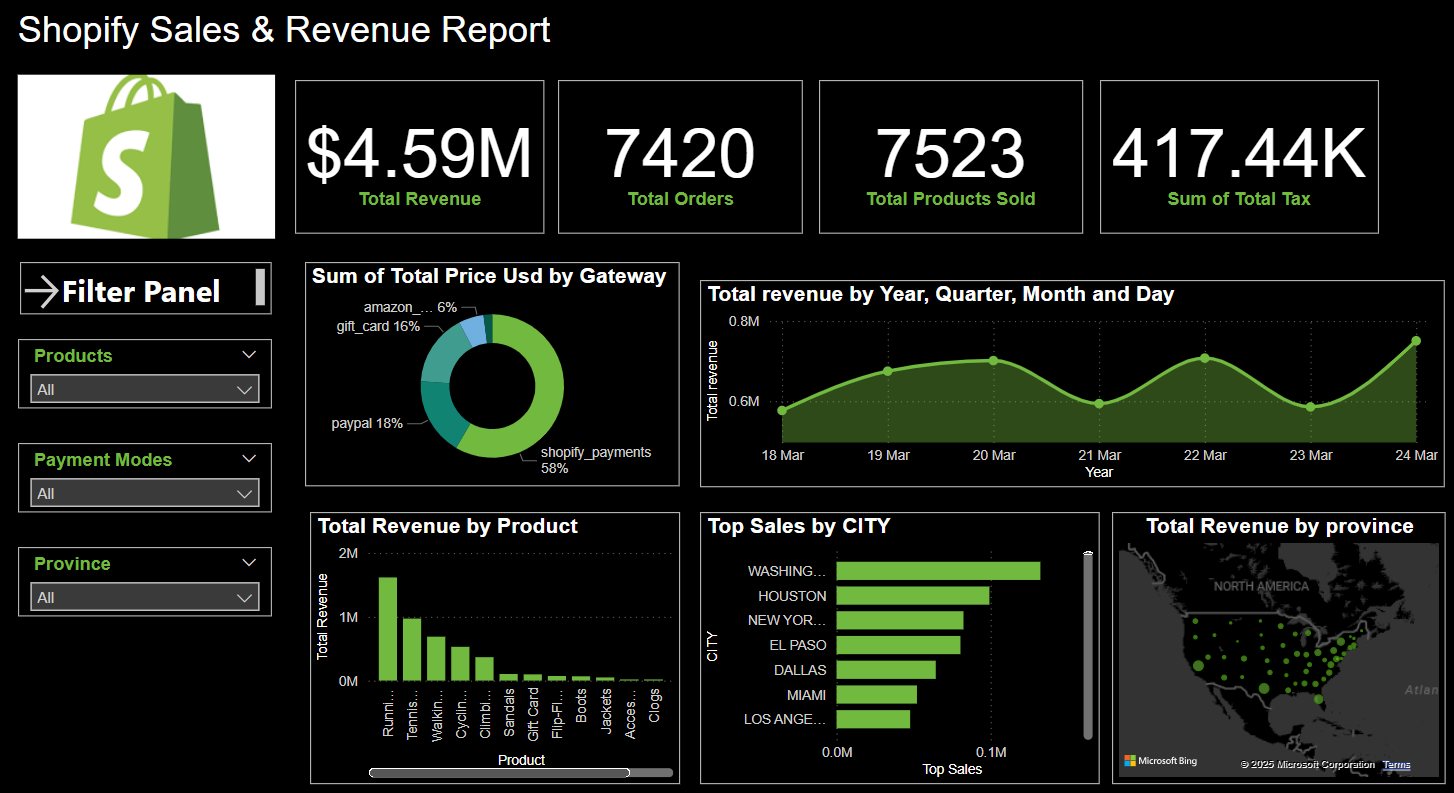

This screenshot's page, from the dashboard's own definition file:
{"tool":"powerbi","page":{"name":"Page 1","canvas":[1280,720],"ordinal":0},"visuals":[{"type":"card","fields":{"Values":["Sum(shopify_sales.Total Price Usd)"]},"box":[258.7,71.9,218.6,135.5],"z":0},{"type":"card","fields":{"Values":["CountNonNull(shopify_sales.Order Number)"]},"box":[489.6,71.9,214.5,135.5],"z":1000},{"type":"card","fields":{"Values":["Sum(shopify_sales.Quantity)"]},"box":[719.6,71.9,232,135.5],"z":2000},{"type":"card","fields":{"Values":["Sum(shopify_sales.Total Tax)"]},"box":[965.9,71.9,245.3,135.5],"z":3000},{"type":"clusteredBarChart","fields":{"Y":["Sum(shopify_sales.Total Price Usd)"],"Category":["shopify_sales.CITY"]},"box":[614.9,451.6,351.1,239.2],"z":4000},{"type":"stackedAreaChart","fields":{"Category":["shopify_sales.Invoice Date.Variation.Date Hierarchy.Year","shopify_sales.Invoice Date.Variation.Date Hierarchy.Quarter","shopify_sales.Invoice Date.Variation.Date Hierarchy.Month","shopify_sales.Invoice Date.Variation.Date Hierarchy.Day"],"Y":["Sum(shopify_sales.Total Price Usd)"]},"box":[614.9,247.4,653.9,181.7],"z":5000},{"type":"columnChart","fields":{"Category":["shopify_sales.Product Type"],"Y":["Sum(shopify_sales.Total Price Usd)"]},"box":[272,451.6,325.4,239.2],"z":6000},{"type":"map","fields":{"Category":["shopify_sales.Billing Address Province"],"Size":["Sum(shopify_sales.Total Price Usd)"]},"box":[976.2,451.6,292.5,239.2],"z":7000},{"type":"slicer","fields":{"Values":["shopify_sales.Gateway"]},"box":[15.4,391.1,222.7,60.6],"z":8000},{"type":"slicer","fields":{"Values":["shopify_sales.Billing Address Province"]},"box":[15.4,482.4,222.7,60.6],"z":9000},{"type":"slicer","fields":{"Values":["shopify_sales.Product Type"]},"box":[15.4,299.7,222.7,60.6],"z":10000},{"type":"donutChart","fields":{"Y":["Sum(shopify_sales.Total Price Usd)"],"Category":["shopify_sales.Gateway"]},"box":[267.9,232,329.5,197.1],"z":11000},{"type":"image","box":[10.3,62.6,236.1,154],"z":12000},{"type":"textbox","box":[10.3,4.1,495.8,50.3],"z":13000},{"type":"textbox","box":[17.4,232,220.7,46.2],"z":14000},{"type":"actionButton","box":[15.4,238.1,99.6,40],"z":15000}]}

Visuals, with their boxes in screenshot pixels (x1, y1, x2, y2):
card - Sum(shopify_sales.Total Price Usd): (295,81,540,233)
card - CountNonNull(shopify_sales.Order Number): (554,81,795,233)
card - Sum(shopify_sales.Quantity): (812,81,1073,233)
card - Sum(shopify_sales.Total Tax): (1089,81,1365,233)
clusteredBarChart - Sum(shopify_sales.Total Price Usd) x shopify_sales.CITY: (695,507,1089,776)
stackedAreaChart - shopify_sales.Invoice Date.Variation.Date Hierarchy.Year x shopify_sales.Invoice Date.Variation.Date Hierarchy.Quarter: (695,278,1430,482)
columnChart - shopify_sales.Product Type x Sum(shopify_sales.Total Price Usd): (309,507,675,776)
map - shopify_sales.Billing Address Province x Sum(shopify_sales.Total Price Usd): (1101,507,1430,776)
slicer - shopify_sales.Gateway: (21,440,271,508)
slicer - shopify_sales.Billing Address Province: (21,542,271,610)
slicer - shopify_sales.Product Type: (21,337,271,405)
donutChart - Sum(shopify_sales.Total Price Usd) x shopify_sales.Gateway: (305,261,675,482)
image: (15,70,281,243)
textbox: (15,5,573,61)
textbox: (23,261,271,313)
actionButton: (21,268,133,313)
